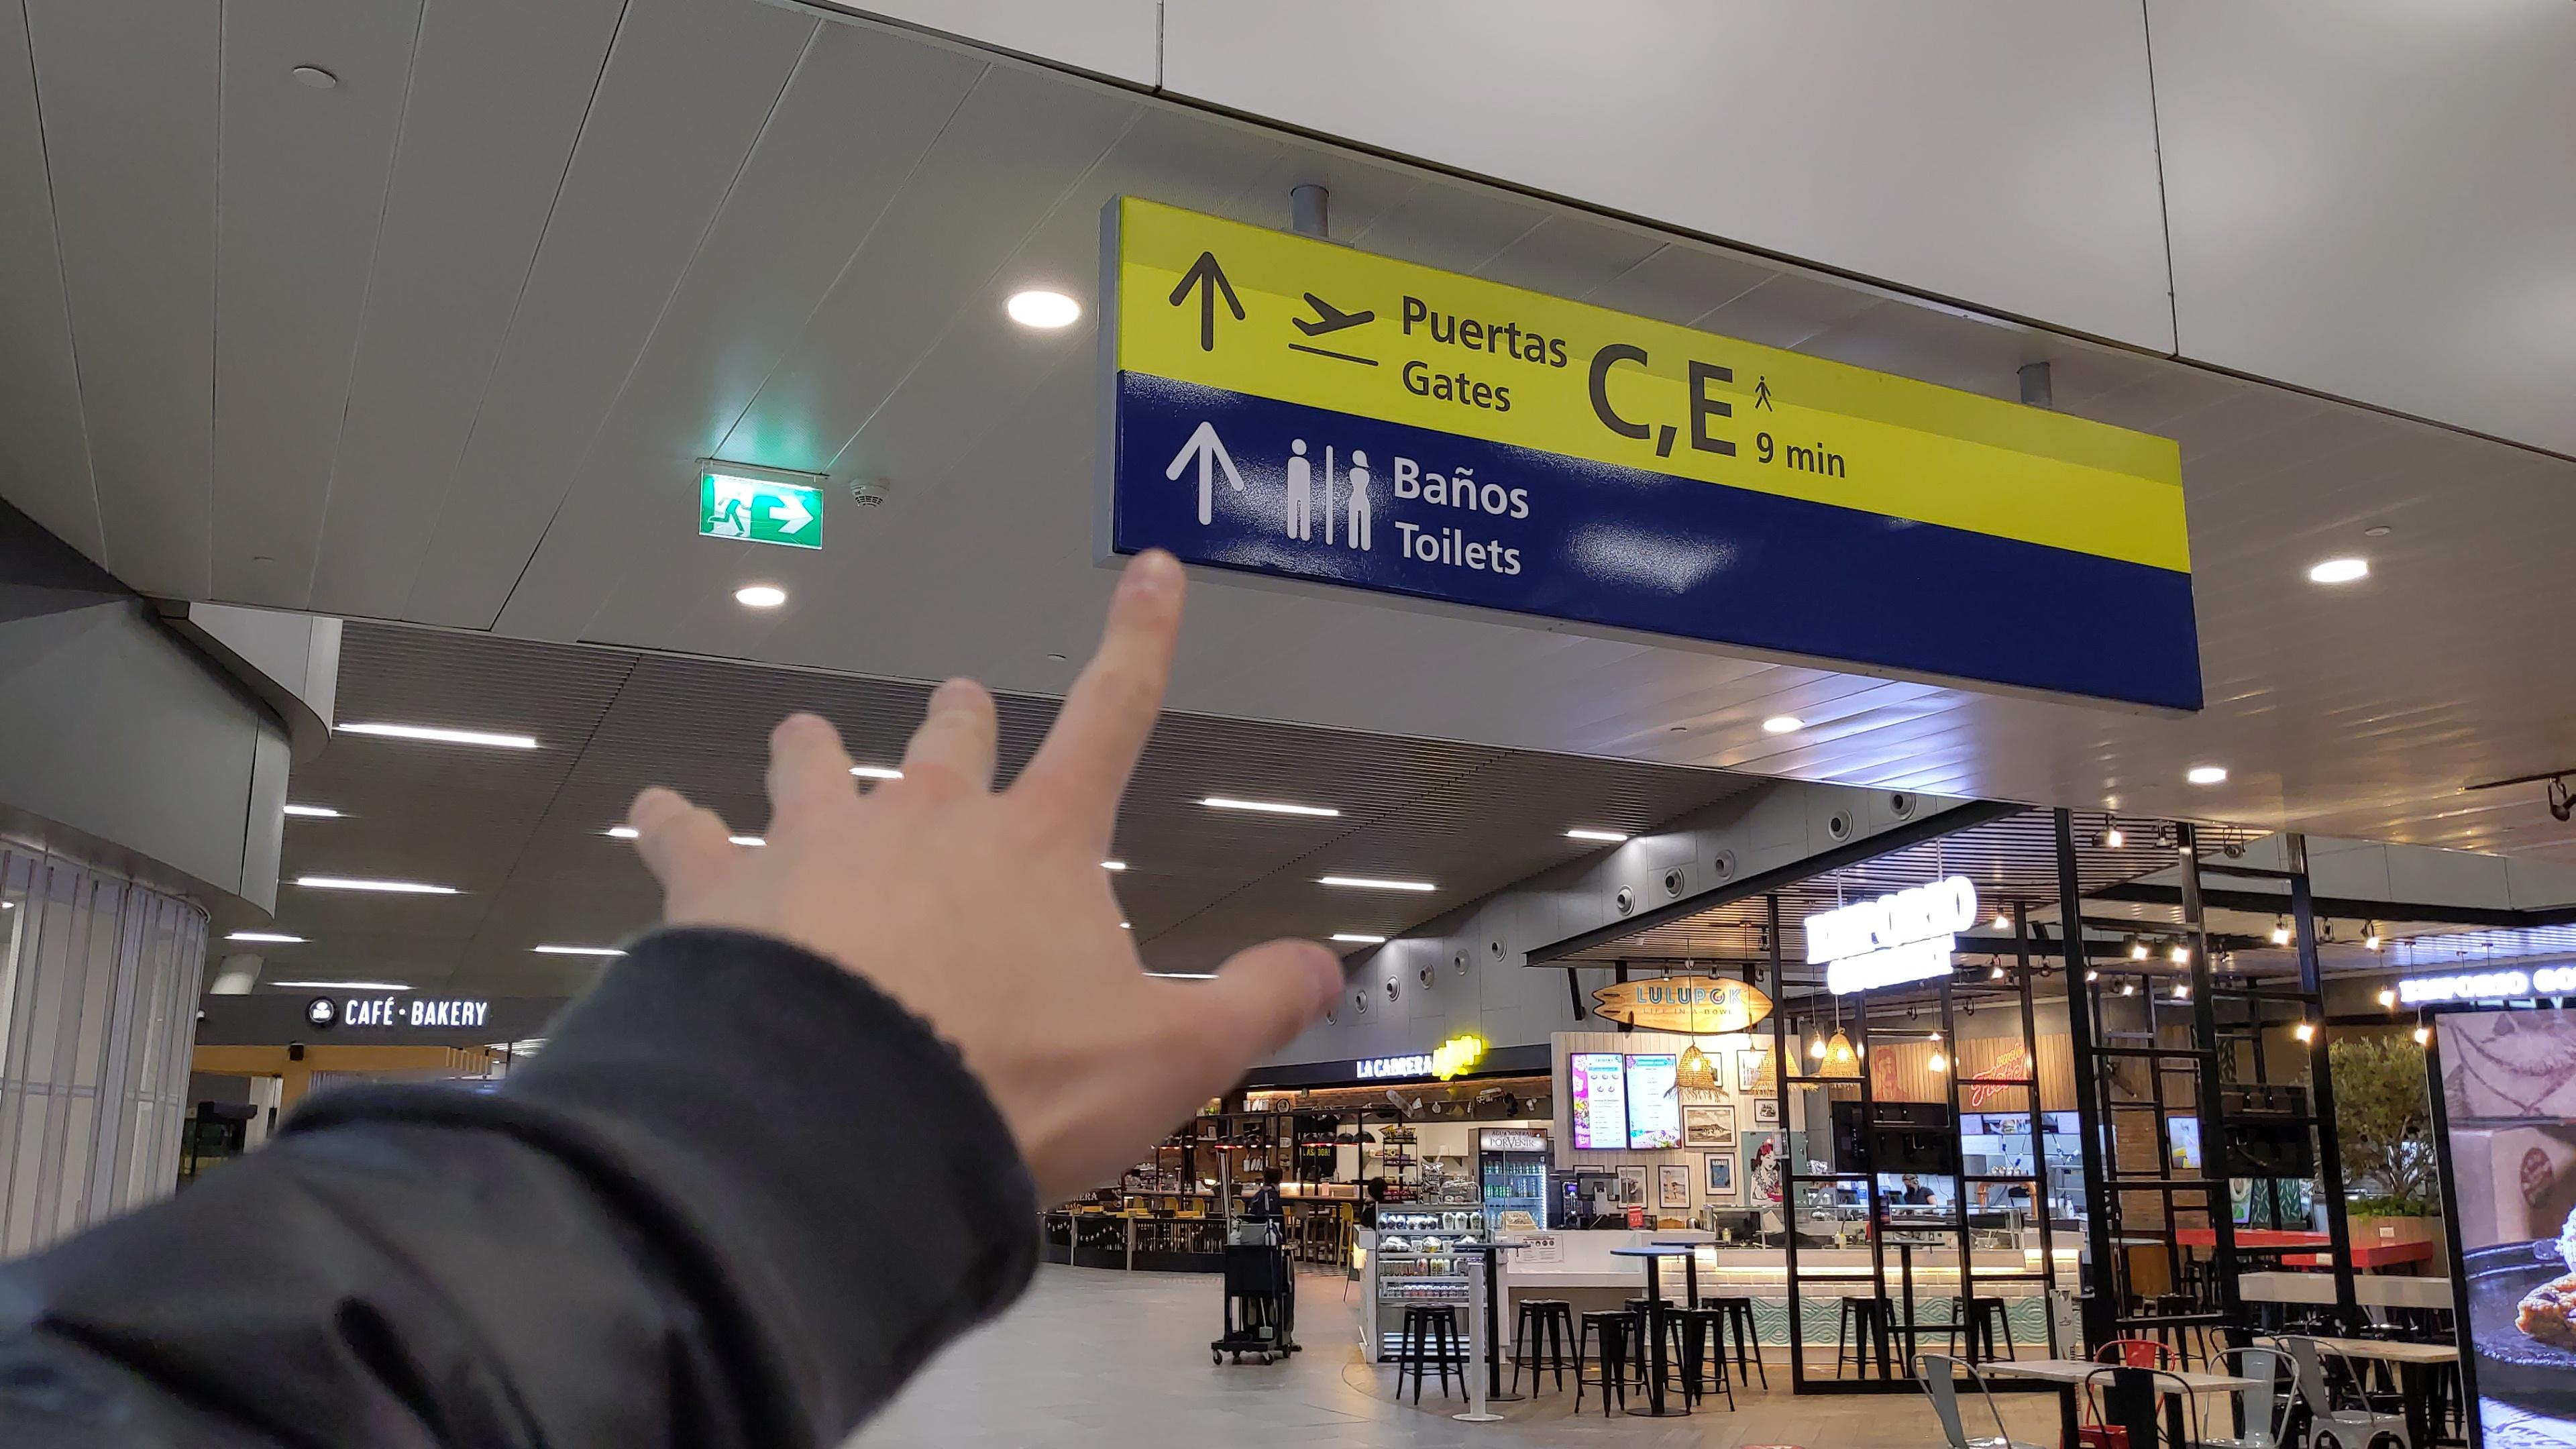airplane symbol: (1290, 288, 1380, 338)
bathrooms: (1274, 435, 1385, 557)
emergency exit: (706, 478, 754, 538)
emergency right arrow: (768, 494, 816, 536)
thin up arrow: (1164, 419, 1247, 531), (1166, 246, 1246, 361)
